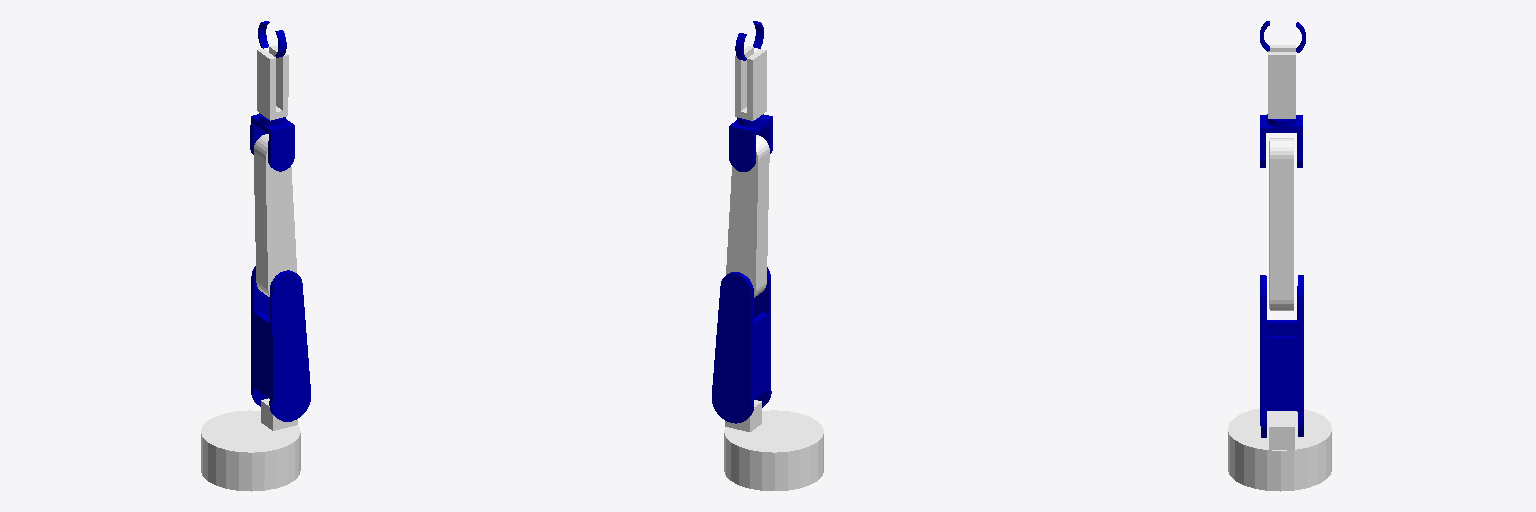
robot.urdf — my_arm:
<?xml version="1.0"?>
<robot name="my_arm">

  <material name="blue">
    <color rgba="0 0 .8 1"/>
  </material>
  <material name="black">
    <color rgba="0 0 0 1"/>
  </material>
  <material name="white">
    <color rgba="1 1 1 1"/>
  </material>

  <link name="base_link" />

  <link name="base">
    <visual>
      <origin xyz="0 0 0" rpy="0 0 0"/>
      <geometry>
        <mesh filename="package://my_arm/meshes/1.stl" scale="0.001 0.001 0.001"/>
      </geometry>
      <material name ="white"/>
    </visual>
    <collision>
      <origin xyz="0 0 0" rpy="0 0 0"/>
      <geometry>
        <mesh filename="package://my_arm/meshes/1.stl" scale="0.001 0.001 0.001"/>
      </geometry>
    </collision>
    <inertial>
      <origin rpy="0 0 0" xyz="0.004190989 0.00646279 0.063222557"/>
      <mass value="1"/>
    <inertia ixx="42671.665152" ixy="-170.122720" ixz="-2806.081792" iyy="45598.126080" iyz="-166.363328" izz="66783.621120"/>
    </inertial>
  </link>

  <link name="elbow_link">
    <visual>
      <origin xyz="-0.062 -0.051 0.014" rpy="0 0 0"/>
      <geometry>
        <mesh filename="package://my_arm/meshes/2.stl" scale="0.001 0.001 0.001"/>
      </geometry>
      <material name ="blue"/>
    </visual>
    <collision>
      <origin xyz="-0.062 -0.051 0.014" rpy="0 0 0"/>
      <geometry>
        <mesh filename="package://my_arm/meshes/2.stl" scale="0.001 0.001 0.001"/>
      </geometry>
    </collision>
    <inertial>
      <origin rpy="0 0 0" xyz="0.052649582 0.057137184 0.133373611"/>
      <mass value="1"/>
    <inertia ixx="28872.232960" ixy="15.032029" ixz="716.172992" iyy="27957.540864" iyz="8.286923" izz="6728.539648"/>
    </inertial>
  </link>

  <link name="wrist_link">
    <visual>
      <origin xyz="-0.001 -0.064 0" rpy="0 0 0"/>
      <geometry>
        <mesh filename="package://my_arm/meshes/3.stl" scale="0.001 0.001 0.001"/>
      </geometry>
      <material name ="white"/>
    </visual>
    <collision>
      <origin xyz="-0.001 -0.064 0" rpy="0 0 0"/>
      <geometry>
        <mesh filename="package://my_arm/meshes/3.stl" scale="0.001 0.001 0.001"/>
      </geometry>
    </collision>
    <inertial>
      <origin rpy="0 0 0" xyz="-0.008036790 0.031757582 0.188686127"/>
      <mass value="1"/>
    <inertia ixx="47496.544256" ixy="-12.229211" ixz="1797.142656" iyy="48284.073984" iyz="20.978956" izz="2536.107264"/>
    </inertial>
  </link>

  <link name="hand_link">
    <visual>
      <origin xyz="-0.037 -0.001 0.092" rpy="0 0 0"/>
      <geometry>
        <mesh filename="package://my_arm/meshes/4.stl" scale="0.001 0.001 0.001"/>
      </geometry>
      <material name ="blue"/>
    </visual>
    <collision>
      <origin xyz="-0.037 -0.001 0.092" rpy="0 0 0"/>
      <geometry>
        <mesh filename="package://my_arm/meshes/4.stl" scale="0.001 0.001 0.001"/>
      </geometry>
    </collision>
    <inertial>
      <origin rpy="0 0 0" xyz="0.028896175 0.036595043 0.087612099"/>
      <mass value="1"/>
    <inertia ixx="1867.552768" ixy="-0.000095417305" ixz="0.195820593750" iyy="1840.582272" iyz="-0.000011109801" izz="451.477600"/>
    </inertial>
  </link>

  <link name="gripper_link">
    <visual>
      <origin xyz="-0.03 -0.037 0" rpy="0 0 0"/>
      <geometry>
        <mesh filename="package://my_arm/meshes/5.stl" scale="0.001 0.001 0.001"/>
      </geometry>
      <material name ="white"/>
    </visual>
    <collision>
      <origin xyz="-0.03 -0.037 0" rpy="0 0 0"/>
      <geometry>
        <mesh filename="package://my_arm/meshes/5.stl" scale="0.001 0.001 0.001"/>
      </geometry>
    </collision>
    <inertial>
      <origin rpy="0 0 0" xyz="0.028896175 0.036595043 0.087612099"/>
      <mass value="1"/>
    <inertia ixx="1867.552768" ixy="-0.000095417305" ixz="0.195820593750" iyy="1840.582272" iyz="-0.000011109801" izz="451.477600"/>
    </inertial>
  </link>

  <link name="finger_link1">
    <visual>
      <origin xyz="0 0 0" rpy="0 0 0"/>
      <geometry>
        <mesh filename="package://my_arm/meshes/6.stl" scale="0.001 0.001 0.001"/>
      </geometry>
      <material name ="blue"/>
    </visual>
    <collision>
      <origin xyz="0 0 0" rpy="0 0 0"/>
      <geometry>
        <mesh filename="package://my_arm/meshes/6.stl" scale="0.001 0.001 0.001"/>
      </geometry>
    </collision>
    <inertial>
      <origin rpy="0 0 0" xyz="0.010424928 0.016705904 0.035355106"/>
      <mass value="1"/>
    <inertia ixx="9.274621" ixy="-0.000133487228" ixz="-0.014046430664" iyy="9.224906" iyz="-0.0762759375" izz="1.227274"/>
    </inertial>
  </link>

  <link name="finger_link2">
    <visual>
      <origin xyz="0 0 0" rpy="0 0 0"/>
      <geometry>
        <mesh filename="package://my_arm/meshes/7.stl" scale="0.001 0.001 0.001"/>
      </geometry>
      <material name ="blue"/>
    </visual>
    <collision>
      <origin xyz="0 0 0" rpy="0 0 0"/>
      <geometry>
        <mesh filename="package://my_arm/meshes/7.stl" scale="0.001 0.001 0.001"/>
      </geometry>
    </collision>
    <inertial>
      <origin rpy="0 0 0" xyz="0.010432852 -0.009562554 0.039894608"/>
      <mass value="1"/>
    <inertia ixx="9.274626" ixy="0.000133295685" ixz="-0.014046378906" iyy="9.224907" iyz="0.076274" izz="1.227275"/>
    </inertial>
  </link>

  <joint name="base2base_joint" type="continuous">
    <parent link="base_link" />
    <child link="base" />
    <origin xyz="0.137 0.137 0" rpy="0 0 0" />
    <axis xyz="0 0 1" />
  </joint>

  <joint name="base_joint" type="revolute">
    <parent link="base" />
    <child link="elbow_link" />
    <limit effort="30" velocity="1.0" lower="-1.570795" upper="1.570795" />
    <origin xyz="0.101 0 0.207" rpy="0 0 0" />
    <axis xyz="0 1 0" />
  </joint>

  <joint name="elbow_joint" type="revolute">
    <parent link="elbow_link" />
    <child link="wrist_link" />
    <limit effort="30" velocity="1.0" lower="-1.570795" upper="1.570795" />
    <origin xyz="-0.014 0.037 0.341" rpy="0 0 0" />
    <axis xyz="0 1 0" />
  </joint>

  <joint name="wrist_joint" type="revolute">
    <parent link="wrist_link" />
    <child link="hand_link" />
    <limit effort="30" velocity="1.0" lower="-1.570795" upper="1.570795" />
    <origin xyz="-0.015 -0.088 0.398" rpy="0 0 0" />
    <axis xyz="0 1 0" />
  </joint>

  <joint name="hand_joint" type="continuous">
    <parent link="hand_link" />
    <child link="gripper_link" />
    <limit effort="30" velocity="1.0" lower="-1.570795" upper="1.570795" />
    <origin xyz="0.0 0.056 0.113" rpy="0 0 0" />
    <axis xyz="0 0 1" />
  </joint>

  <joint name="finger_joint1" type="revolute">
    <parent link="gripper_link" />
    <child link="finger_link1" />
    <limit effort="30" velocity="1.0" lower="-1.570795" upper="1.570795" />
    <origin xyz="-0.01 0.036 0.184" rpy="0 0 0" />
    <axis xyz="1 0 0" />
  </joint>

  <joint name="finger_joint2" type="revolute">
    <parent link="gripper_link" />
    <child link="finger_link2" />
    <limit effort="30" velocity="1.0" lower="-1.570795" upper="1.570795" />
    <origin xyz="-0.01 -0.037 0.184" rpy="0 0 0" />
    <axis xyz="1 0 0" />
  </joint>


</robot>

--- Facts derived from the render (not from the file) ---
Views: 3 orthographic renders of the robot side by side, from view 1: azimuth 30°, elevation 25°; view 2: azimuth 150°, elevation 25°; view 3: azimuth 270°, elevation 25°.
Model my_arm with 8 links and 7 joints (5 revolute, 2 continuous), rooted at base_link, posed every joint at zero.
Links seen in each view (by area): view 1: elbow_link, base, wrist_link, gripper_link, hand_link; view 2: elbow_link, base, wrist_link, gripper_link, hand_link; view 3: base, elbow_link, wrist_link, gripper_link, hand_link.
Boxes of the visible links, bbox=[...] form: elbow_link: bbox=[251, 266, 310, 421]; base: bbox=[201, 398, 300, 491]; wrist_link: bbox=[254, 134, 296, 296]; gripper_link: bbox=[257, 45, 288, 120]; hand_link: bbox=[250, 113, 294, 171]; elbow_link: bbox=[712, 267, 771, 423]; base: bbox=[724, 400, 823, 490]; wrist_link: bbox=[726, 135, 769, 297]; gripper_link: bbox=[735, 46, 766, 120]; hand_link: bbox=[729, 114, 772, 171]; base: bbox=[1228, 408, 1331, 491]; elbow_link: bbox=[1260, 275, 1303, 437]; wrist_link: bbox=[1269, 138, 1293, 310]; gripper_link: bbox=[1268, 45, 1295, 118]; hand_link: bbox=[1260, 114, 1302, 167].
Size in the robot's own frame: 0.3003 by 0.2742 by 1.32 metres.
7 mesh visuals loaded from 7 distinct referenced files (7 binary STL).